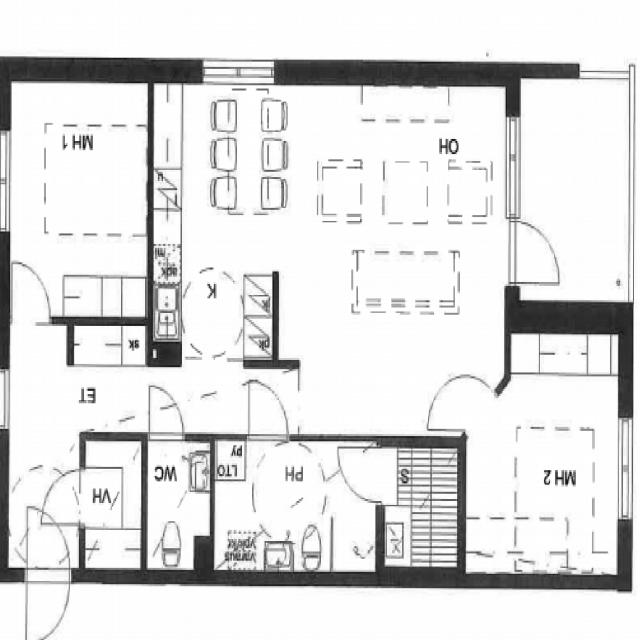door: (441, 351, 499, 435), (506, 222, 564, 283), (26, 509, 70, 584), (26, 571, 70, 640), (12, 262, 51, 325), (41, 470, 85, 525), (249, 380, 287, 442), (340, 449, 385, 501), (150, 387, 183, 442)
